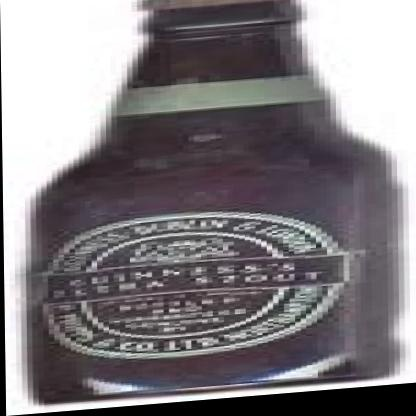trash: (13, 0, 402, 406)
